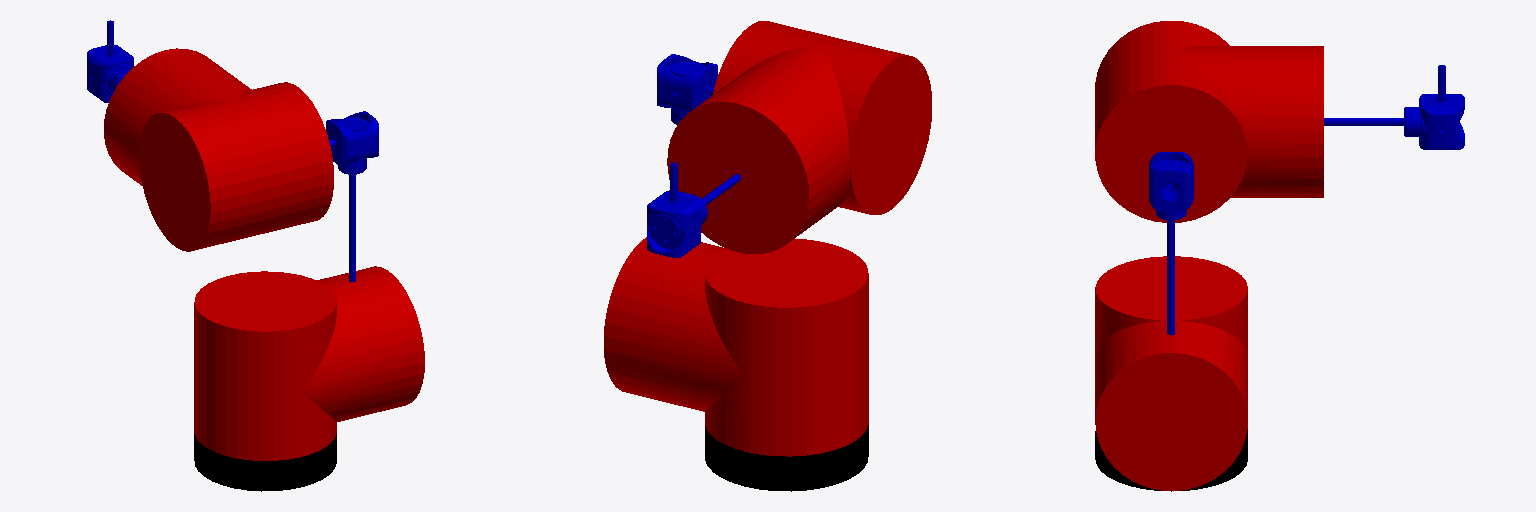
The robot description file, URDF, robot "node32":
<?xml version="1.0"?>
<robot  name="node32" >
 <material  name="blue" >
  <color  rgba="0 0 0.8 1.0" />
 </material>
 <material  name="red" >
  <color  rgba="0.8 0 0 1.0" />
 </material>
 <material  name="black" >
  <color  rgba="0.0 0.0 0.0 1.0" />
 </material>
 <link  name="root_mod" >
  <visual >
   <origin  rpy="0 0 0"  xyz="0 0 0" />
   <material  name="black" />
   <geometry >
    <cylinder  length="0.02"  radius="0.05" />
   </geometry>
  </visual>
 </link>
 <link  name="jointMod_1" >
  <visual >
   <origin  rpy="1.5707963267948963 0.0 0.0"  xyz="0.0 7.771561172376096e-19 0.0035" />
   <material  name="red" />
   <geometry >
    <mesh  filename="./meshes/j_module.obj"  scale="0.001 0.001 0.001" />
   </geometry>
  </visual>
 </link>
 <joint  type="revolute"  name="joint_1_revolute" >
  <parent  link="root_mod" />
  <child  link="jointMod_1" />
  <origin  rpy="0 0 0"  xyz="0.0 0.0 0.01" />
  <axis  xyz="0.0 0.0 1.0" />
 </joint>
 <transmission  name="act_joint_1_revolute" >
  <type  xmltext="SimpleTransmission" >
   SimpleTransmission
  </type>
  <actuator  name="act_joint_1_revolute" >
   <mechanicalreduction  xmltext="1" >
    1
   </mechanicalreduction>
  </actuator>
  <joint  name="joint_1_revolute" />
 </transmission>
 <link  name="linkMod_2" >
  <visual >
   <origin  rpy="1.5707963240855651 -1.2497703982816688e-08 -3.141592641092089"  xyz="0.03999999999999998 4.999081662324221e-10 -4.999081648780052e-10" />
   <material  name="blue" />
   <geometry >
    <mesh  filename="./meshes/l1_module.obj"  scale="0.001 0.001 0.001" />
   </geometry>
  </visual>
 </link>
 <joint  type="revolute"  name="joint_2_revolute" >
  <parent  link="jointMod_1" />
  <child  link="linkMod_2" />
  <origin  rpy="0 0 0"  xyz="0.03 -0.0002999999999999882 0.053000000000000005" />
  <axis  xyz="1.0 0.0 0.0" />
 </joint>
 <transmission  name="act_joint_2_revolute" >
  <type  xmltext="SimpleTransmission" >
   SimpleTransmission
  </type>
  <actuator  name="act_joint_2_revolute" >
   <mechanicalreduction  xmltext="1" >
    1
   </mechanicalreduction>
  </actuator>
  <joint  name="joint_2_revolute" />
 </transmission>
 <link  name="jointMod_3" >
  <visual >
   <origin  rpy="0.0 0.0 1.5707963267948963"  xyz="-0.0035 7.771561172376096e-19 0.0" />
   <material  name="red" />
   <geometry >
    <mesh  filename="./meshes/j_module.obj"  scale="0.001 0.001 0.001" />
   </geometry>
  </visual>
 </link>
 <joint  type="fixed"  name="joint_3_fixed" >
  <parent  link="linkMod_2" />
  <child  link="jointMod_3" />
  <origin  rpy="0 0 0"  xyz="1.9996326608429094e-09 -4.3349299788124236e-10 0.15999999999999995" />
  <axis  xyz="-1.0 -0.0 0.0" />
 </joint>
 <link  name="linkMod_4" >
  <visual >
   <origin  rpy="-3.141592641092089 -1.5707963009853283 0.0"  xyz="-1.8496602150599611e-09 0.14799999999999994 1.84966021004862e-09" />
   <material  name="blue" />
   <geometry >
    <mesh  filename="./meshes/l3_module.obj"  scale="0.001 0.001 0.001" />
   </geometry>
  </visual>
 </link>
 <joint  type="revolute"  name="joint_4_revolute" >
  <parent  link="jointMod_3" />
  <child  link="linkMod_4" />
  <origin  rpy="0 0 0"  xyz="-0.053 0.03000000000000001 0.0003" />
  <axis  xyz="0.0 1.0 0.0" />
 </joint>
 <transmission  name="act_joint_4_revolute" >
  <type  xmltext="SimpleTransmission" >
   SimpleTransmission
  </type>
  <actuator  name="act_joint_4_revolute" >
   <mechanicalreduction  xmltext="1" >
    1
   </mechanicalreduction>
  </actuator>
  <joint  name="joint_4_revolute" />
 </transmission>
 <link  name="eef" />
 <joint  type="fixed"  name="eef_joint" >
  <parent  link="linkMod_4" />
  <child  link="eef" />
  <origin  rpy="0 0 0"  xyz="-1.958033437884919e-09 0.14799999950009177 0.0400000018496602" />
  <axis  xyz="-0.0 -0.0 1.0" />
 </joint>
</robot>

--- What the picture shows (computed from the rendered views, not written in the file) ---
The picture shows the robot from 3 angles, left to right: view 1: azimuth 30°, elevation 25°; view 2: azimuth 150°, elevation 25°; view 3: azimuth 270°, elevation 25°; orthographic projection.
Robot: node32 — 6 links, 5 joints (3 revolute, 2 fixed); root link root_mod; default pose: all joints at 0.
Links seen in each view (by area): view 1: jointMod_1, jointMod_3, root_mod, linkMod_2, linkMod_4; view 2: jointMod_1, jointMod_3, root_mod, linkMod_4, linkMod_2; view 3: jointMod_3, jointMod_1, linkMod_4, linkMod_2, root_mod.
Boxes of the visible links, <box> form: jointMod_1: <box>194,266,424,460</box>; jointMod_3: <box>104,48,333,251</box>; root_mod: <box>194,433,336,491</box>; linkMod_2: <box>326,111,378,281</box>; linkMod_4: <box>87,20,133,102</box>; jointMod_1: <box>604,237,868,456</box>; jointMod_3: <box>667,21,931,253</box>; root_mod: <box>705,425,868,491</box>; linkMod_4: <box>647,163,740,257</box>; linkMod_2: <box>657,54,717,124</box>; jointMod_3: <box>1095,21,1323,222</box>; jointMod_1: <box>1095,256,1247,490</box>; linkMod_4: <box>1324,65,1464,149</box>; linkMod_2: <box>1149,152,1193,334</box>; root_mod: <box>1095,430,1247,491</box>.
Bounding box of the posed robot: 0.1735 × 0.2421 × 0.283 m (x, y, z).
4 mesh visuals loaded from 3 distinct referenced files (3 OBJ).